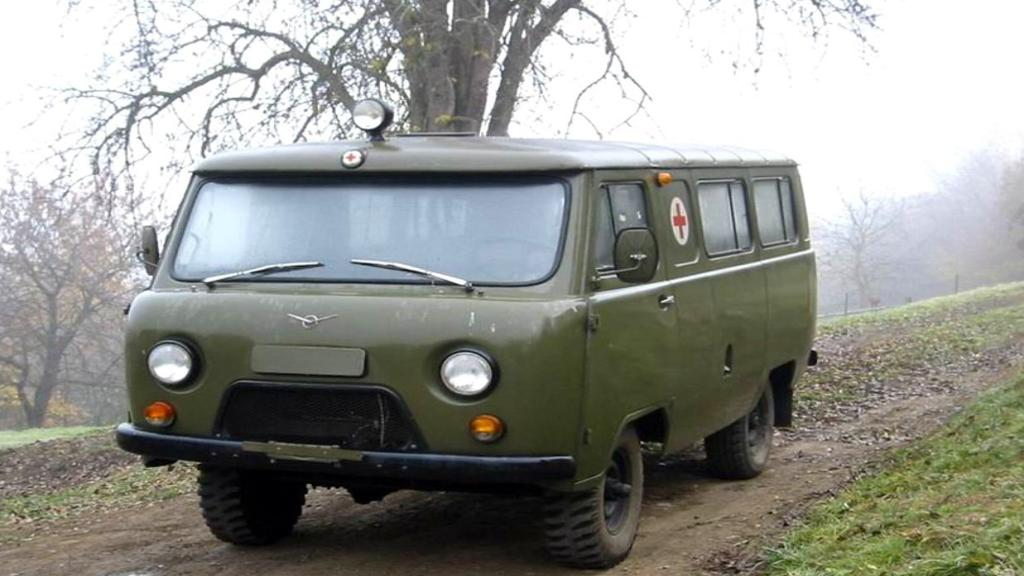CAR: (107, 96, 819, 573)
